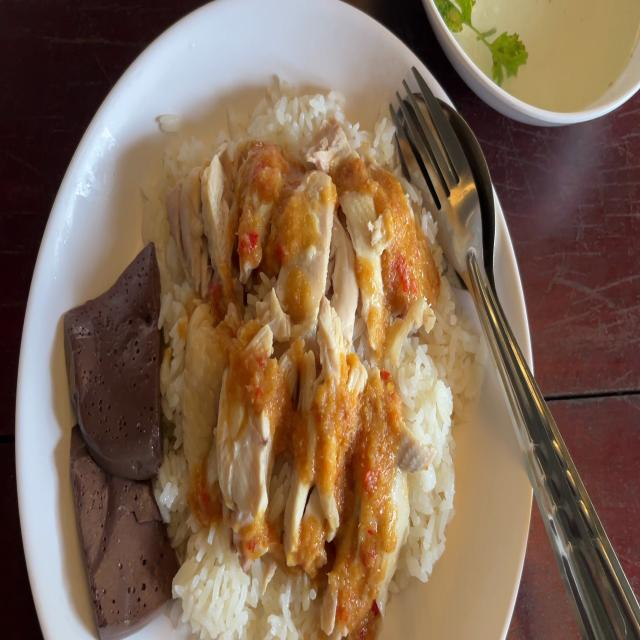chicken_rice: (166, 152, 410, 551)
noodle: (59, 234, 164, 479), (69, 422, 181, 617)
